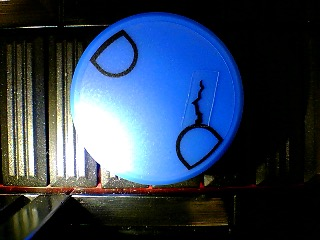CRACK: (69, 12, 243, 186)
